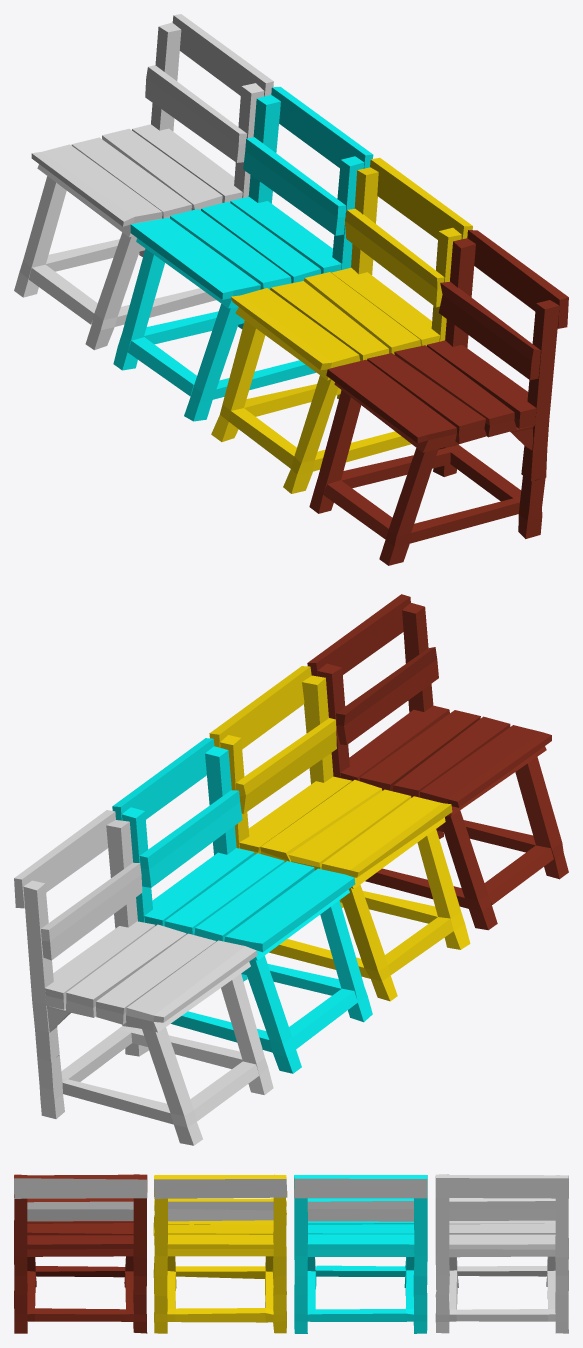
Rendered from 4colorChair.fbx.
3 renders of one model, top to bottom at view 1: azimuth 30°, elevation 25°; view 2: azimuth 150°, elevation 25°; view 3: azimuth 270°, elevation 25°, orthographic. The views are drawn at different scales.
Parts seen in each view (by area): view 1: chair; view 2: chair; view 3: chair.
Boxes of the visible parts, x1,y1,x2,y2 form: chair: [14, 14, 568, 565]; chair: [14, 594, 568, 1145]; chair: [14, 1174, 568, 1333].
Size of the model in its own units: 320 by 405 by 1223.
